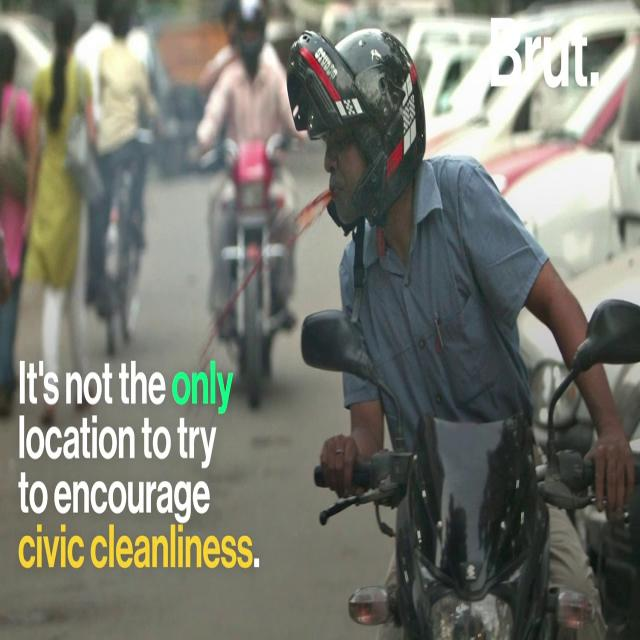spit: (212, 92, 348, 402)
